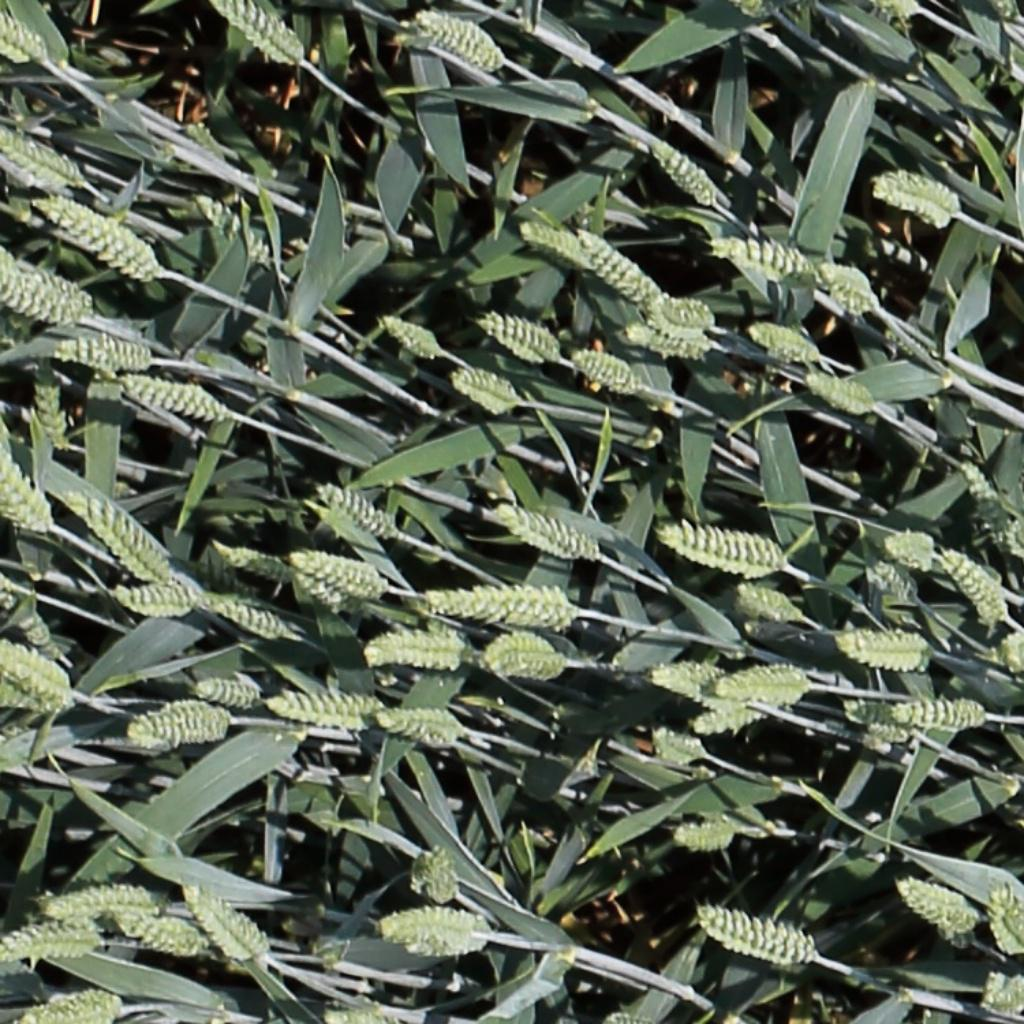0-0: (36, 192, 165, 287), (64, 488, 176, 587), (178, 880, 294, 965), (650, 517, 792, 585), (415, 581, 587, 635), (0, 234, 97, 321), (259, 683, 395, 737), (577, 226, 663, 308), (207, 0, 308, 68), (0, 401, 51, 535), (35, 874, 161, 928), (699, 906, 816, 963), (893, 868, 991, 933), (830, 622, 945, 676), (496, 503, 603, 561), (192, 188, 273, 263), (0, 259, 90, 326), (833, 690, 930, 752), (955, 456, 1018, 551), (940, 544, 1011, 628), (863, 168, 967, 224), (92, 518, 169, 588), (0, 126, 82, 190), (417, 9, 505, 68), (115, 896, 199, 957), (375, 918, 504, 957), (715, 661, 825, 706), (121, 374, 228, 420), (651, 135, 720, 206), (316, 480, 398, 536), (127, 700, 231, 744), (0, 918, 106, 961), (352, 632, 465, 672), (106, 579, 204, 623), (290, 551, 385, 595), (888, 696, 990, 736), (24, 888, 112, 934), (8, 989, 122, 1024), (479, 312, 562, 359), (400, 842, 460, 907), (376, 905, 486, 940), (472, 638, 568, 677), (817, 260, 884, 315), (204, 596, 290, 638), (0, 645, 70, 696), (32, 364, 70, 454), (375, 707, 469, 743), (714, 238, 816, 271), (289, 566, 354, 617), (573, 348, 643, 393), (690, 702, 779, 737), (0, 720, 42, 794), (985, 882, 1024, 961), (217, 544, 296, 582), (749, 320, 823, 360), (625, 322, 712, 356), (520, 221, 595, 260), (0, 2, 46, 65), (969, 969, 1024, 1021), (806, 372, 879, 410), (380, 312, 442, 356), (737, 584, 806, 622), (53, 342, 152, 368), (450, 371, 522, 405), (671, 821, 746, 853), (869, 557, 920, 603), (887, 537, 937, 572), (655, 730, 708, 760), (193, 682, 262, 705), (656, 299, 715, 324), (0, 688, 54, 714), (994, 640, 1024, 676), (324, 1010, 387, 1024)
